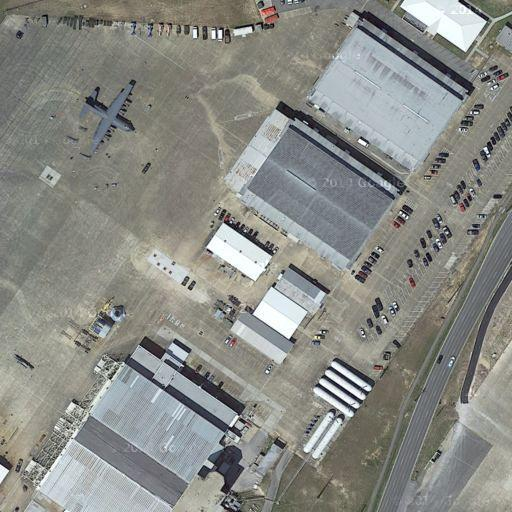C-130: (73, 75, 139, 152)
